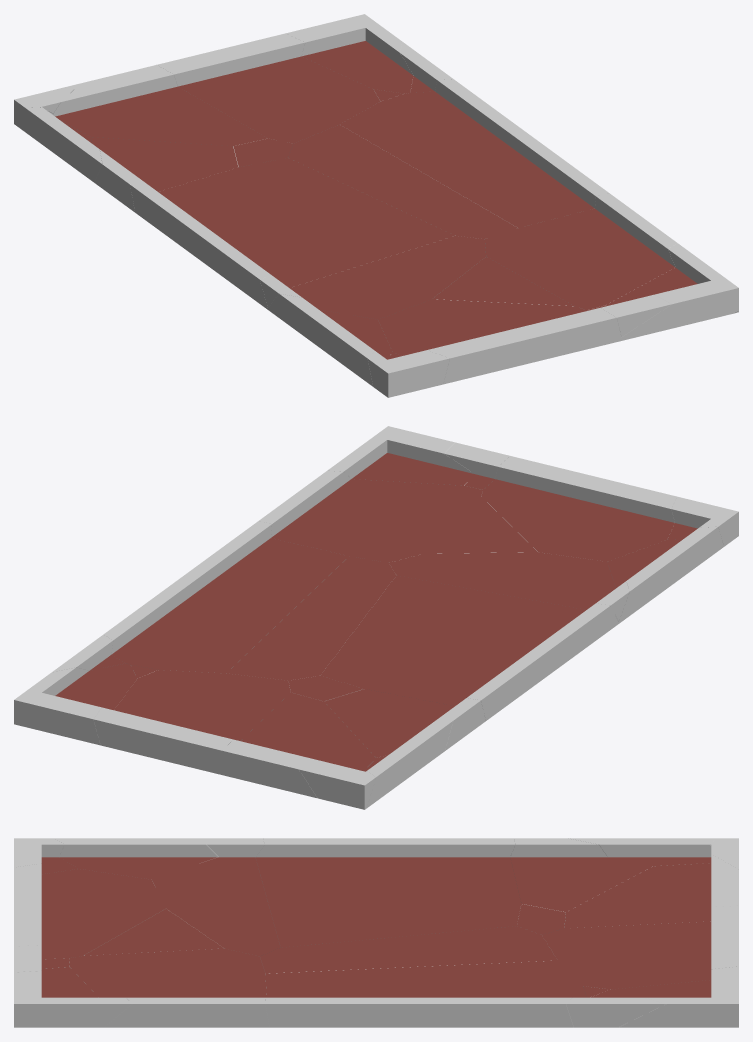
File: roof01_Bx.fbx
The picture shows the model from 3 angles, top to bottom: view 1: azimuth 30°, elevation 25°; view 2: azimuth 150°, elevation 25°; view 3: azimuth 270°, elevation 25°; orthographic projection. The views are drawn at different scales.
Visible parts, largest first — view 1: roof01_B_cell.013, roof01_B_cell.018, roof01_B_cell.014, roof01_B_cell.020, roof01_B_cell, roof01_B_cell.017, roof01_B_cell.019, roof01_B_cell.016, roof01_B_cell.004, roof01_B_cell.007, roof01_B_cell.006, roof01_B_cell.001 (+7 smaller); view 2: roof01_B_cell.013, roof01_B_cell.018, roof01_B_cell, roof01_B_cell.014, roof01_B_cell.020, roof01_B_cell.019, roof01_B_cell.016, roof01_B_cell.017, roof01_B_cell.007, roof01_B_cell.004, roof01_B_cell.006, roof01_B_cell.001 (+7 smaller); view 3: roof01_B_cell.013, roof01_B_cell.018, roof01_B_cell.020, roof01_B_cell.014, roof01_B_cell, roof01_B_cell.016, roof01_B_cell.019, roof01_B_cell.017, roof01_B_cell.004, roof01_B_cell.006, roof01_B_cell.007, roof01_B_cell.001 (+7 smaller).
Boxes of the visible parts, left/top/right/bottom form: roof01_B_cell.013: left=130, top=157, right=454, bottom=309; roof01_B_cell.018: left=340, top=79, right=608, bottom=227; roof01_B_cell.014: left=157, top=33, right=380, bottom=143; roof01_B_cell.020: left=484, top=193, right=677, bottom=309; roof01_B_cell: left=378, top=299, right=621, bottom=384; roof01_B_cell.017: left=53, top=65, right=267, bottom=146; roof01_B_cell.019: left=288, top=124, right=517, bottom=238; roof01_B_cell.016: left=259, top=236, right=485, bottom=319; roof01_B_cell.004: left=91, top=137, right=238, bottom=212; roof01_B_cell.007: left=286, top=14, right=413, bottom=93; roof01_B_cell.006: left=606, top=243, right=738, bottom=340; roof01_B_cell.001: left=268, top=293, right=392, bottom=386; roof01_B_cell.013: left=320, top=575, right=618, bottom=720; roof01_B_cell.018: left=103, top=521, right=348, bottom=673; roof01_B_cell: left=481, top=456, right=676, bottom=561; roof01_B_cell.014: left=93, top=670, right=290, bottom=773; roof01_B_cell.020: left=259, top=470, right=482, bottom=562; roof01_B_cell.019: left=226, top=556, right=396, bottom=680; roof01_B_cell.016: left=389, top=552, right=629, bottom=621; roof01_B_cell.017: left=215, top=692, right=375, bottom=798; roof01_B_cell.007: left=14, top=663, right=136, bottom=745; roof01_B_cell.004: left=324, top=689, right=485, bottom=757; roof01_B_cell.006: left=327, top=426, right=474, bottom=485; roof01_B_cell.001: left=607, top=526, right=723, bottom=623; roof01_B_cell.013: left=255, top=838, right=521, bottom=947; roof01_B_cell.018: left=265, top=960, right=586, bottom=1027; roof01_B_cell.020: left=69, top=948, right=269, bottom=1027; roof01_B_cell.014: left=542, top=905, right=738, bottom=989; roof01_B_cell: left=14, top=863, right=165, bottom=959; roof01_B_cell.016: left=152, top=838, right=280, bottom=956; roof01_B_cell.019: left=259, top=926, right=557, bottom=973; roof01_B_cell.017: left=564, top=854, right=738, bottom=928; roof01_B_cell.004: left=510, top=838, right=652, bottom=912; roof01_B_cell.006: left=14, top=967, right=131, bottom=1027; roof01_B_cell.007: left=590, top=966, right=738, bottom=1027; roof01_B_cell.001: left=54, top=838, right=224, bottom=879.
Bounding box in the file's own units: 890 × 59.18 × 1645.
